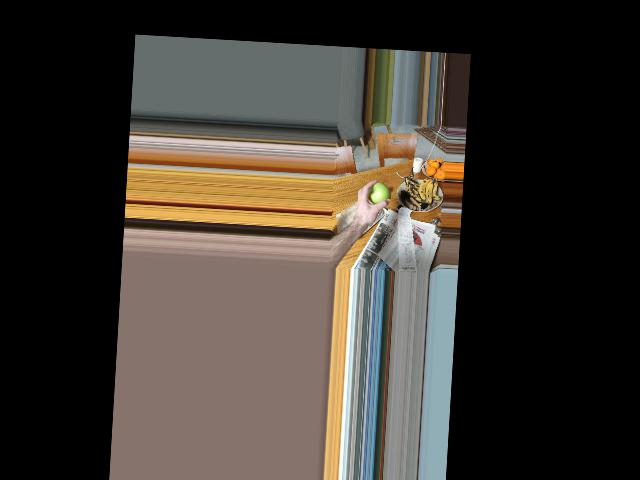apple: (365, 180, 391, 207)
